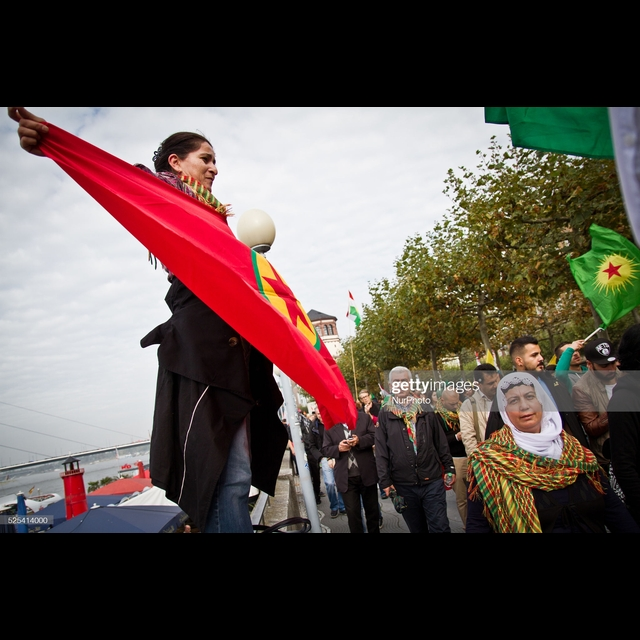KCK: (589, 244, 637, 296)
